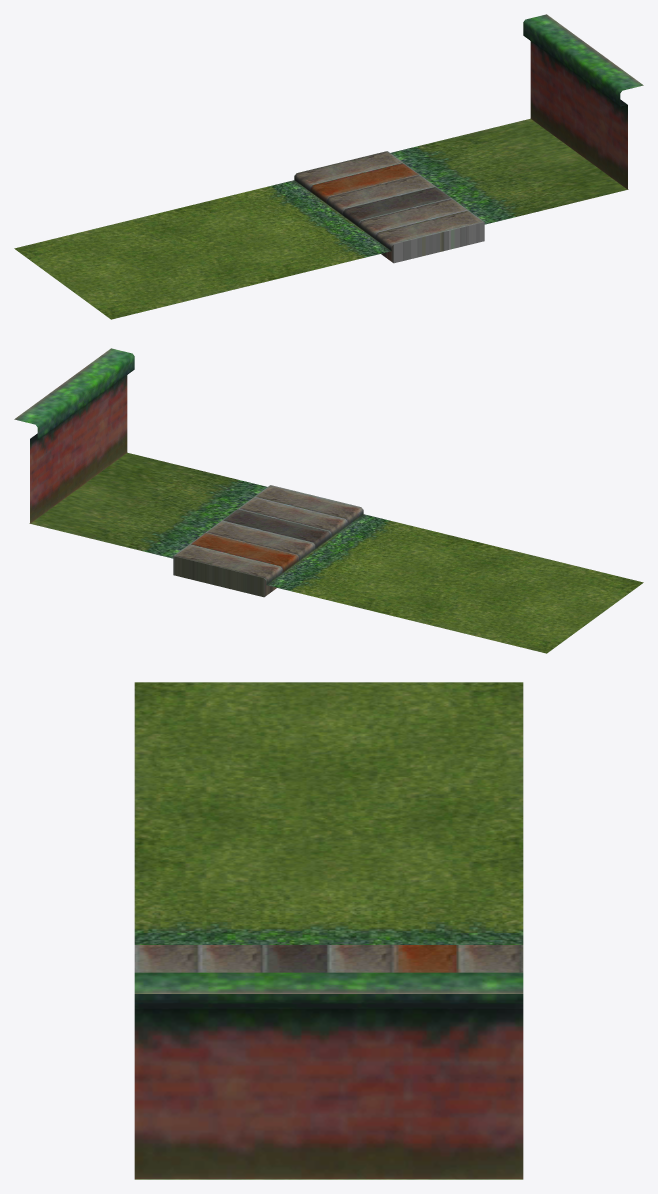
File: terrain_02.obj
3 renders of one model, top to bottom at view 1: azimuth 30°, elevation 25°; view 2: azimuth 150°, elevation 25°; view 3: azimuth 270°, elevation 25°, orthographic. The views are drawn at different scales.
Parts seen in each view (by area): view 1: terrain_02_00_Scene, coll_2_Scene.001; view 2: terrain_02_00_Scene, coll_2_Scene.001; view 3: terrain_02_00_Scene, coll_2_Scene.001.
Part boxes in pixels (x1,y1,x2,y2): terrain_02_00_Scene: (14, 14, 643, 319); coll_2_Scene.001: (297, 151, 484, 263); terrain_02_00_Scene: (14, 348, 643, 653); coll_2_Scene.001: (173, 485, 360, 597); terrain_02_00_Scene: (134, 682, 523, 1179); coll_2_Scene.001: (134, 945, 523, 972).
Bounding box in the file's own units: 63.15 × 13.24 × 19.95.
